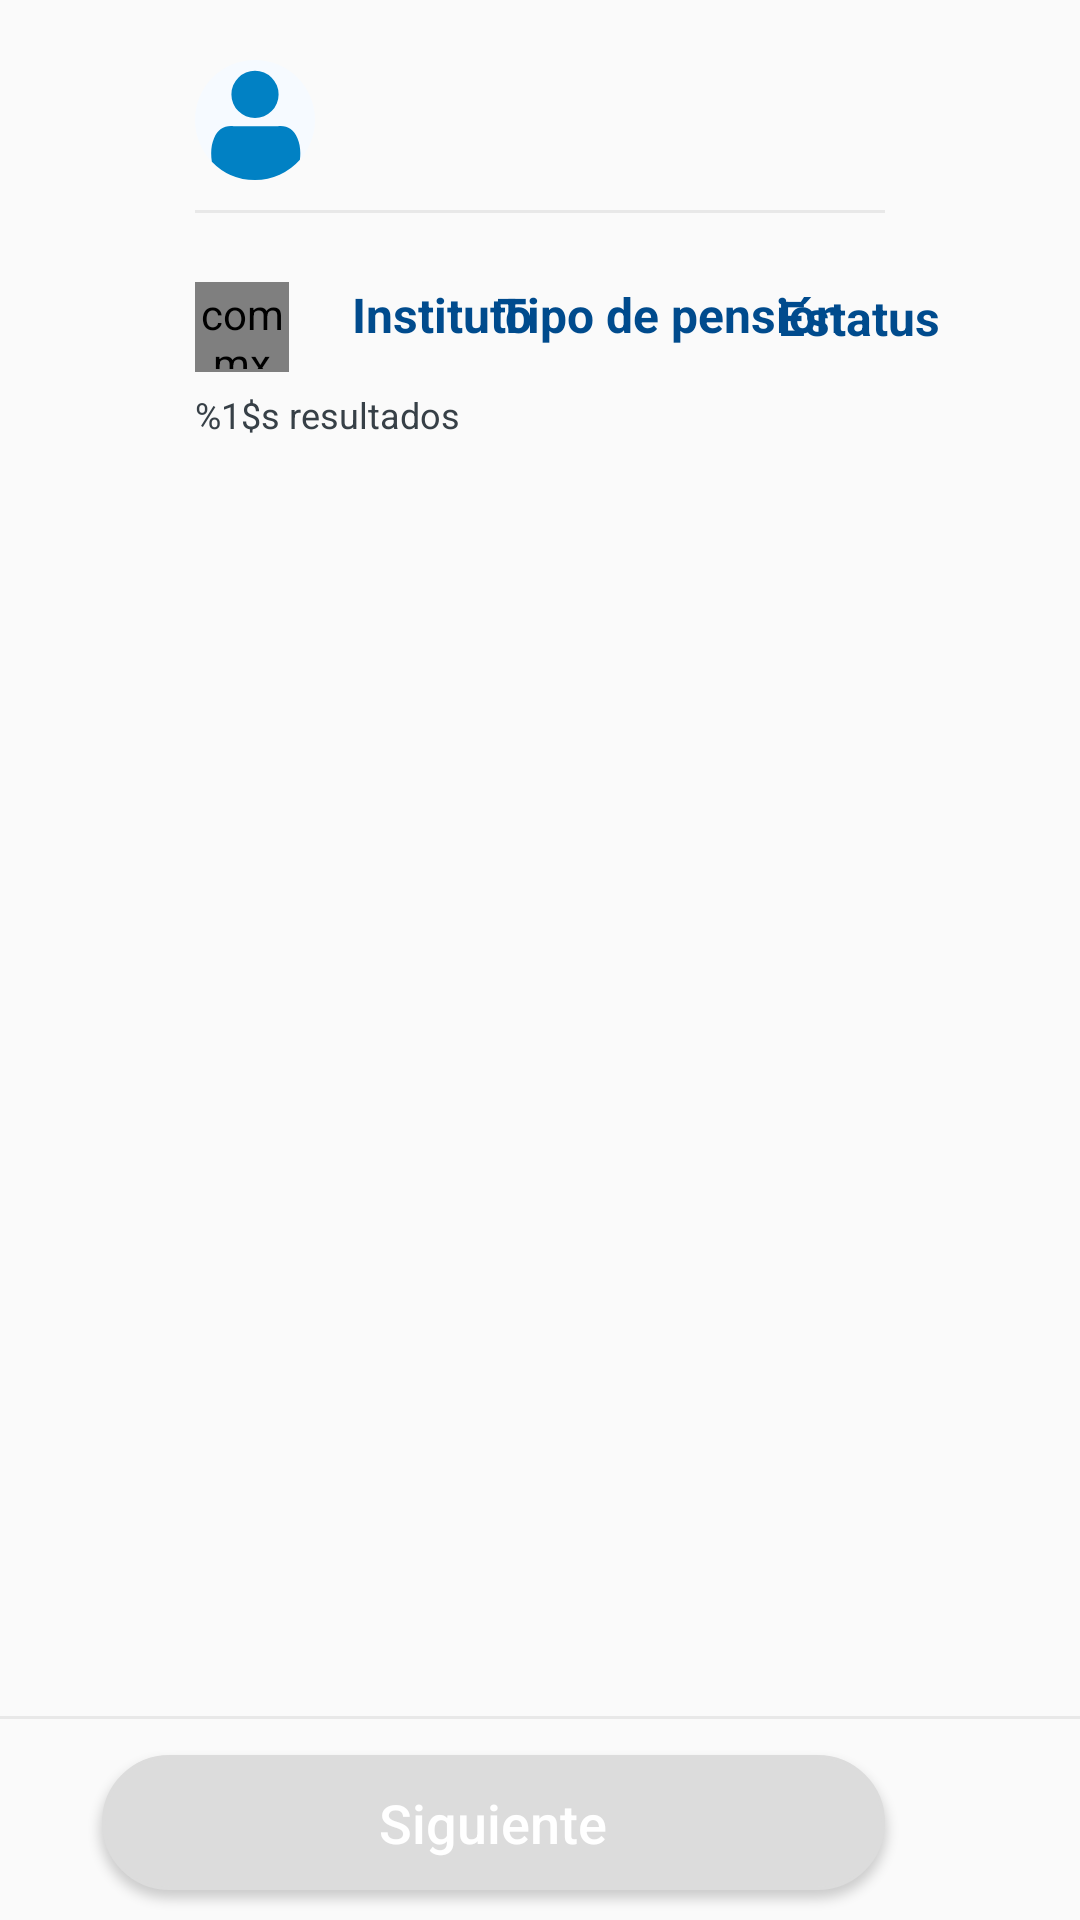

Icon click points for this 1080*1920 phone screenshot, format (x=x, y=y):
Imagen generica empleado: (x=256, y=125)
